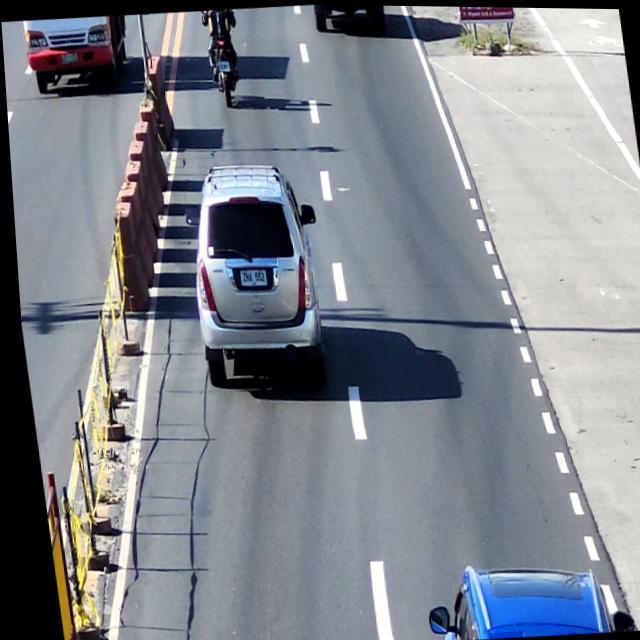Car: (175, 158, 327, 391), (419, 549, 611, 640), (313, 4, 387, 33)
License-Plate: (235, 265, 266, 288), (60, 51, 78, 66), (216, 58, 229, 73)
Motorcycle: (204, 8, 242, 107)
Truck: (20, 13, 130, 96)
